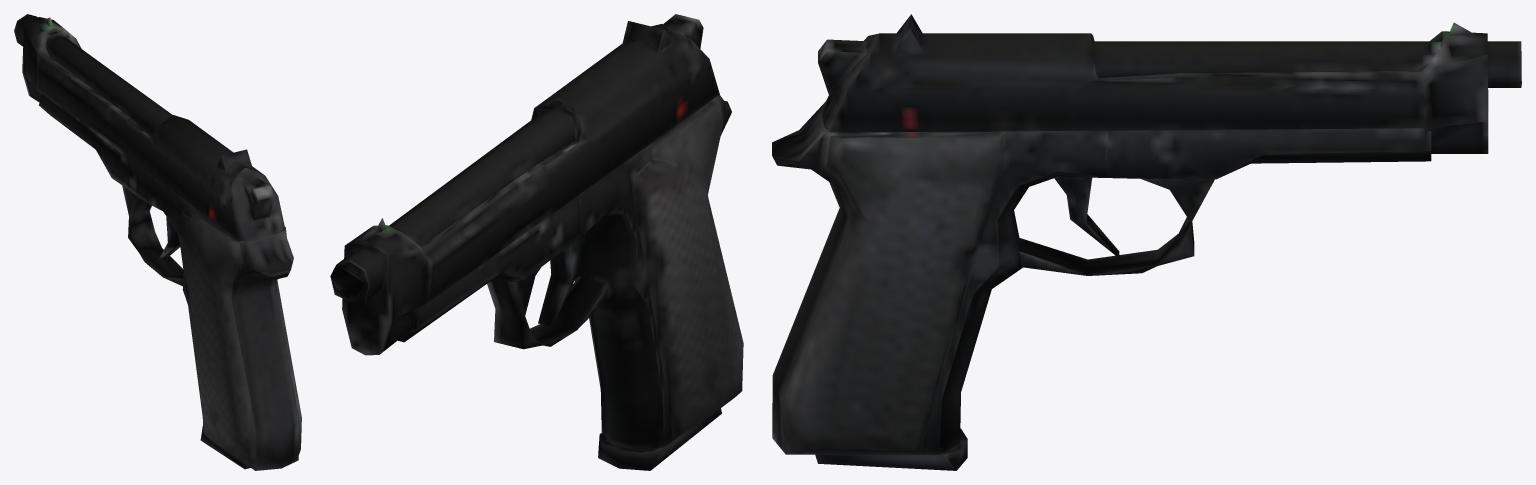
3 views of the same model, side by side, from view 1: azimuth 30°, elevation 25°; view 2: azimuth 150°, elevation 25°; view 3: azimuth 270°, elevation 25° (orthographic). The views are drawn at different scales.
Visible parts, largest first — view 1: M9_LP; view 2: M9_LP; view 3: M9_LP.
Boxes of the visible parts, left/top/right/bottom form: M9_LP: left=14, top=14, right=301, bottom=470; M9_LP: left=330, top=14, right=743, bottom=470; M9_LP: left=772, top=14, right=1521, bottom=470.
Size of the model in its own units: 0.0217 by 0.1441 by 0.0924.
